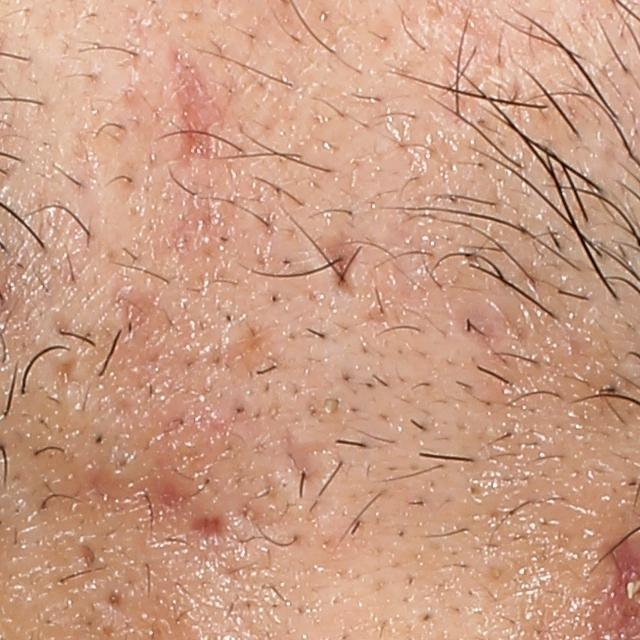atrophic_scar: (166, 46, 225, 164), (135, 471, 191, 532), (277, 435, 321, 510), (321, 231, 362, 297), (92, 469, 137, 525), (186, 510, 231, 543), (54, 357, 79, 386), (105, 588, 124, 611), (80, 544, 95, 568)
